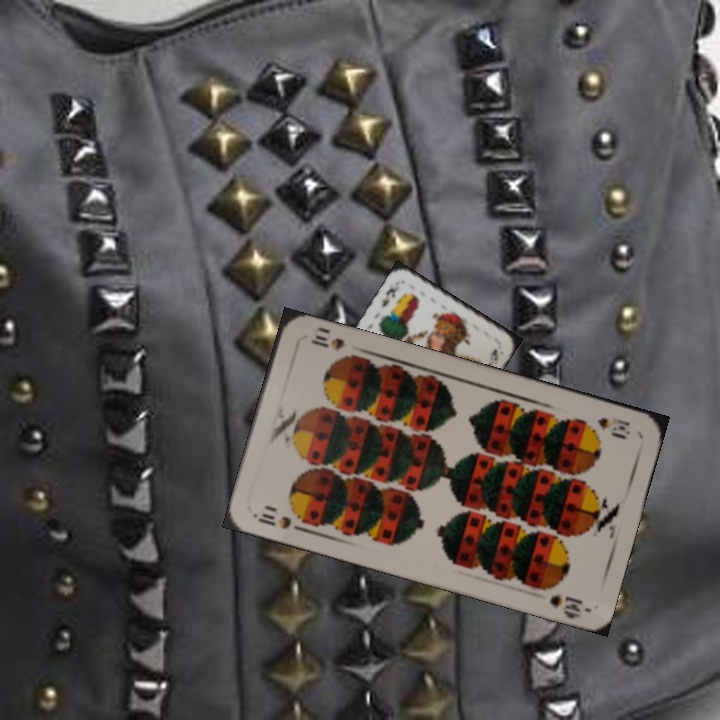EK: (378, 284, 398, 310)
S10: (251, 509, 309, 535), (593, 413, 633, 439)
